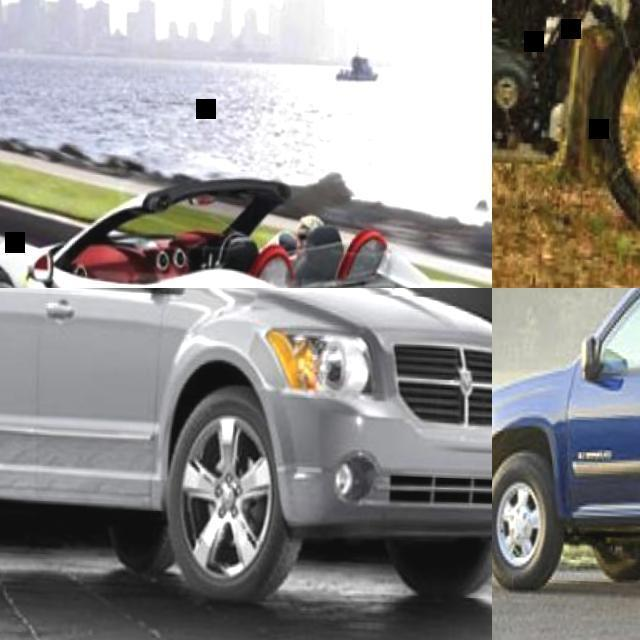car: (12, 190, 492, 610), (488, 284, 639, 595)
